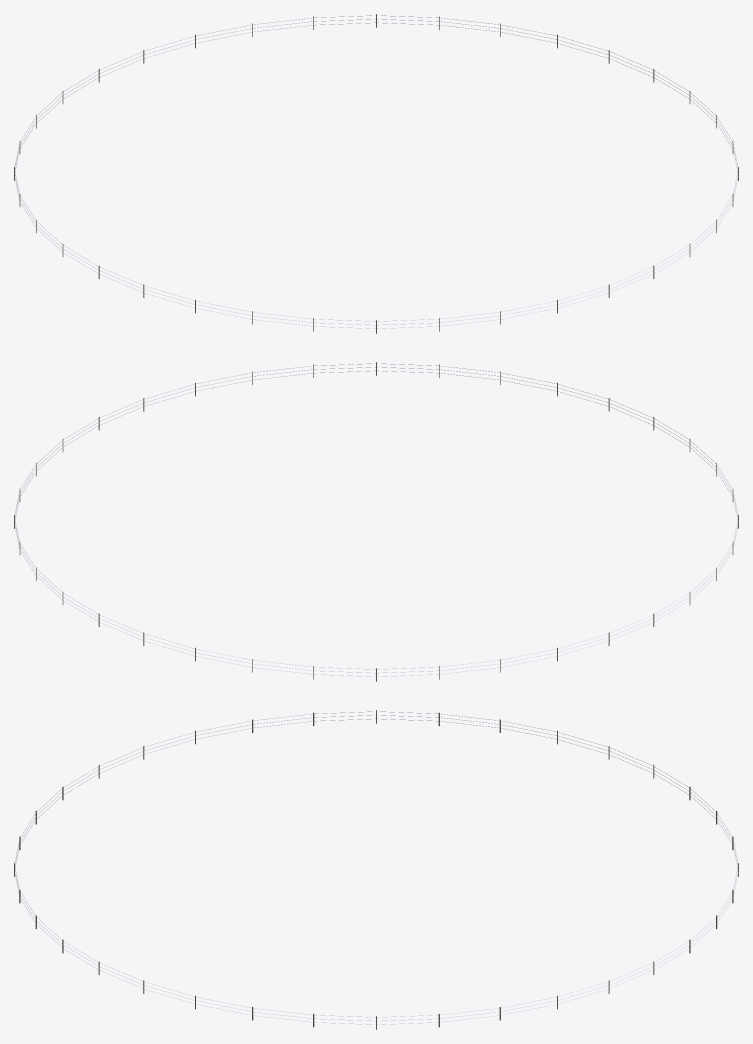
Rendered from fence_ring.glb.
3 views of the same model, one above another, from view 1: azimuth 30°, elevation 25°; view 2: azimuth 150°, elevation 25°; view 3: azimuth 270°, elevation 25° (orthographic).
Visible parts, largest first — view 1: FenceRing; view 2: FenceRing; view 3: FenceRing.
Part boxes in pixels (box(x1,y1,x2,y2)): FenceRing: box(14, 14, 738, 333); FenceRing: box(14, 362, 738, 681); FenceRing: box(14, 710, 738, 1029).
Size of the model in its own units: 108 by 2.2 by 108.
